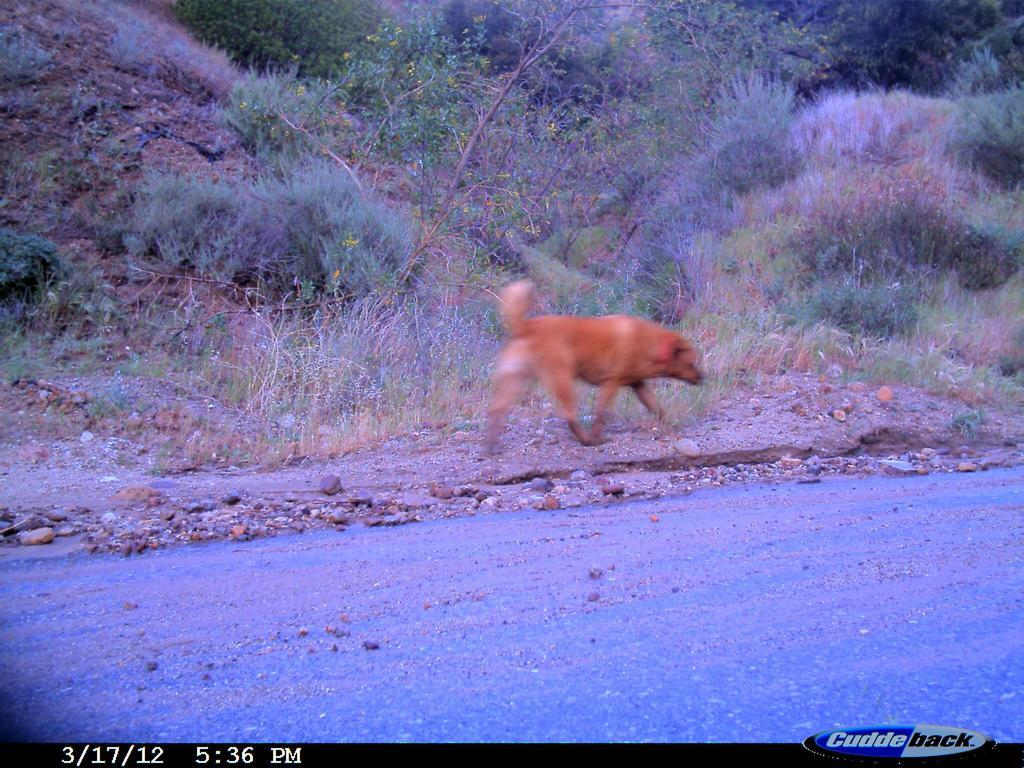dog: (475, 267, 715, 473)
